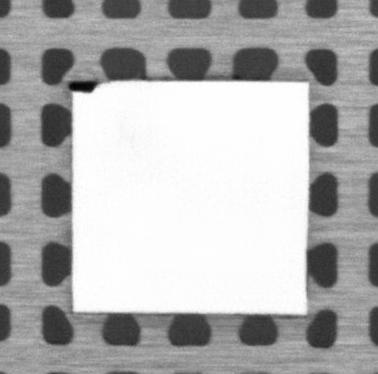DIE_BROKEN: (67, 78, 99, 93)
